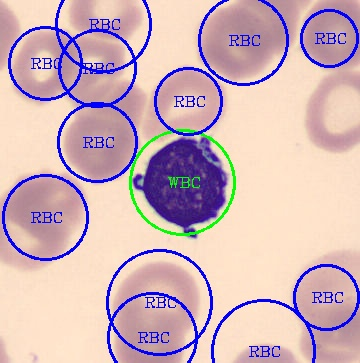RBC: (109, 257, 202, 337), (143, 63, 230, 143), (192, 2, 275, 82), (3, 168, 90, 238), (289, 246, 358, 333), (54, 33, 128, 110), (62, 111, 139, 185), (10, 26, 73, 107), (302, 66, 358, 154), (0, 206, 72, 273), (112, 298, 187, 361), (298, 0, 359, 70), (76, 77, 145, 136), (231, 0, 300, 56), (298, 297, 358, 360), (66, 0, 144, 41)
WBC: (131, 133, 232, 238)
